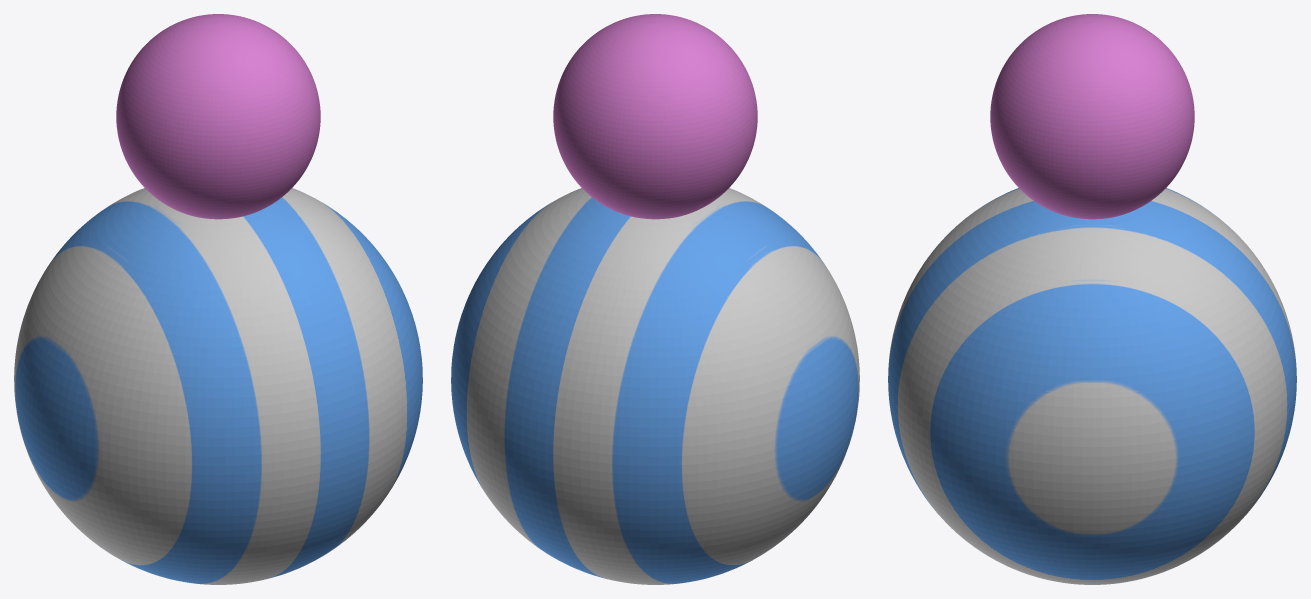
File: BOD0_BMC1_BCC13_BPT1_FRC0_HEA0_HMC10_HCC0_HPT0_ELT0_ERT0_ELL0_ERL0_AP0_AAL0_AAR0_BEK0.fbx
3 views of the same model, side by side, from view 1: azimuth 30°, elevation 25°; view 2: azimuth 150°, elevation 25°; view 3: azimuth 270°, elevation 25° (orthographic).
Parts seen in each view (by area): view 1: Body, Head; view 2: Body, Head; view 3: Body, Head.
Part boxes in pixels (bbox=[...]): Body: bbox=[14, 188, 422, 584]; Head: bbox=[116, 14, 320, 219]; Body: bbox=[451, 188, 859, 584]; Head: bbox=[553, 14, 757, 219]; Body: bbox=[888, 188, 1296, 584]; Head: bbox=[990, 14, 1194, 219].
Bounding box in the file's own units: 98.72 × 145 × 98.72.
2 materials, 2 textured.
